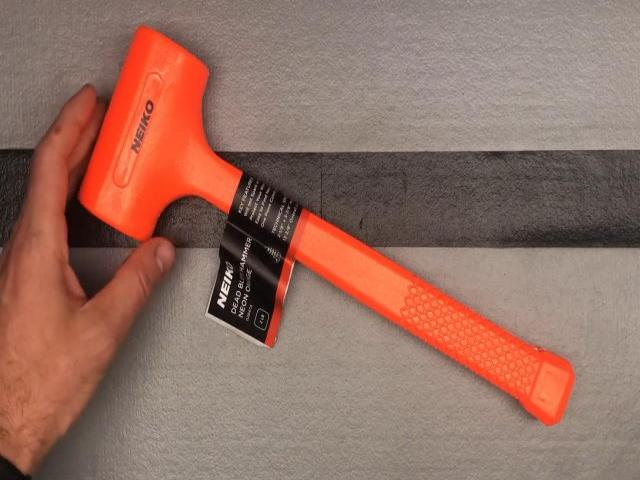hammer: (77, 29, 575, 423)
